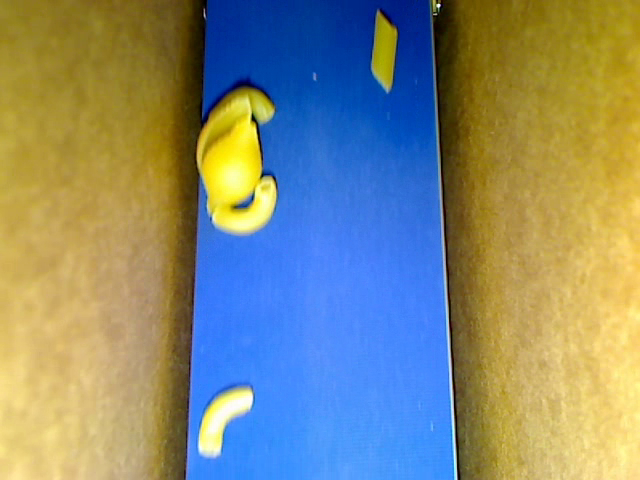elbow: (197, 385, 253, 458), (211, 176, 276, 236), (209, 87, 275, 126)
penne: (371, 11, 397, 92)
shell: (202, 117, 262, 217), (197, 97, 251, 180)
